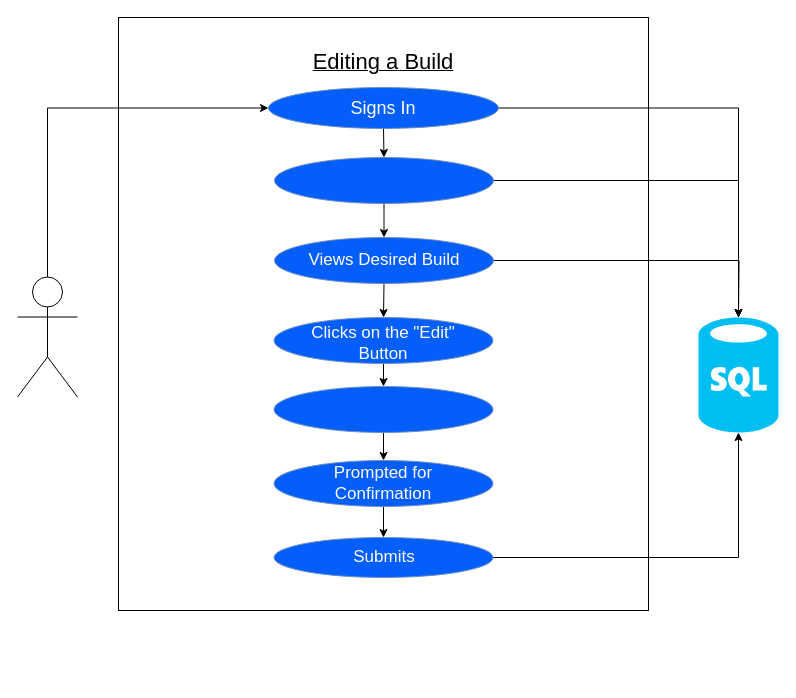
This 796x698 diagram has some shape labels left out. Each missing label, with the box of its shape:
Makes Desired Changes: (273, 386, 493, 432)
User: (16, 276, 78, 397)
Views Profile: (274, 156, 494, 204)
